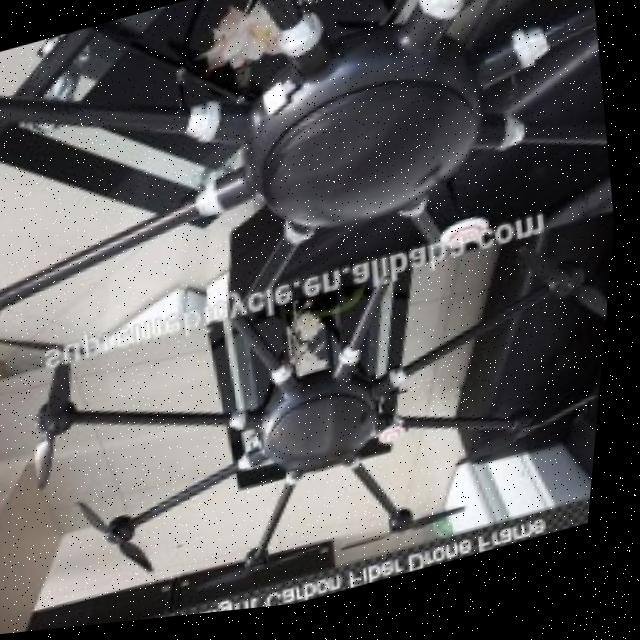drones: (0, 225, 621, 637)
